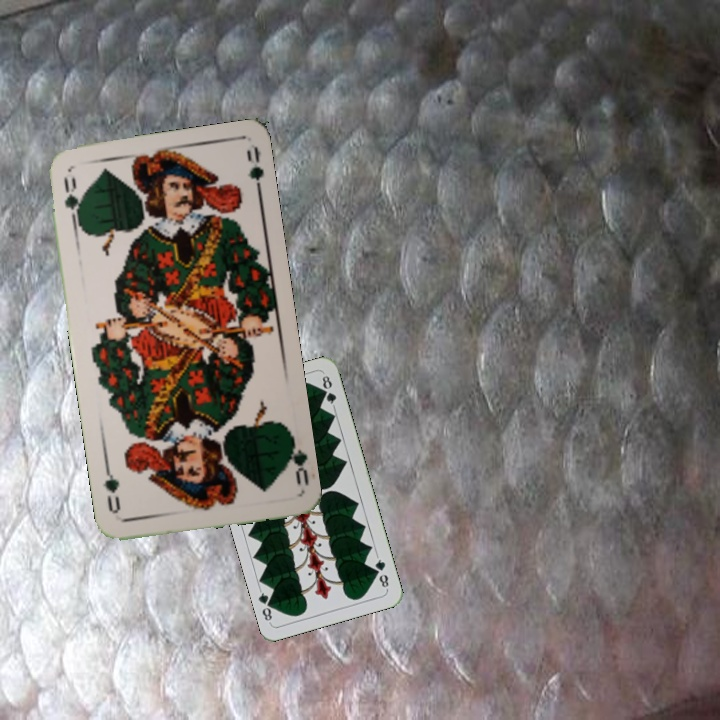G8: (371, 552, 391, 592)
GO: (282, 431, 312, 488), (59, 172, 85, 229)
